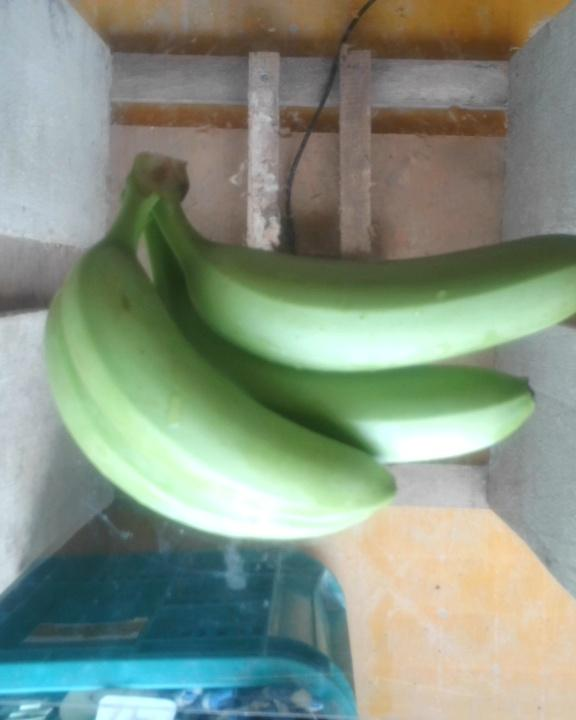SPOT: (39, 137, 576, 553)
